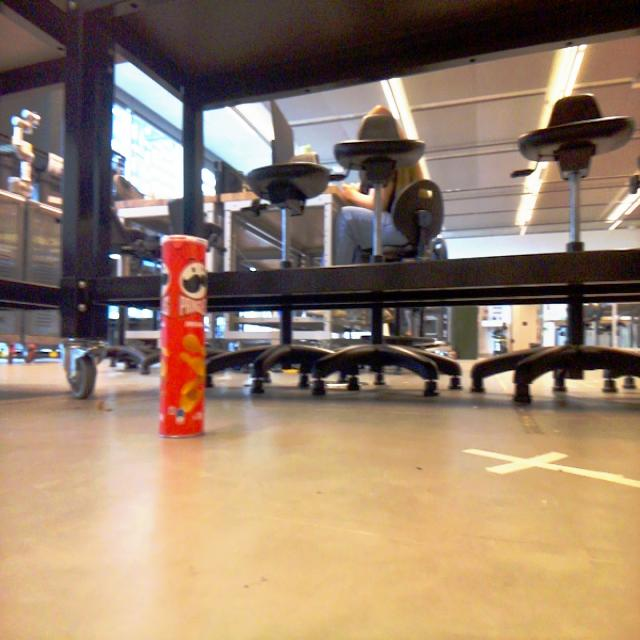redpringles: (136, 211, 236, 461)
